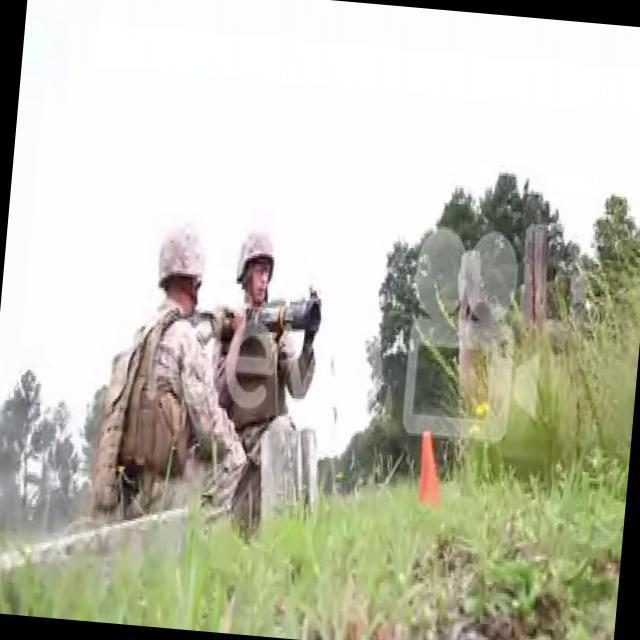rocket: (236, 284, 322, 338)
